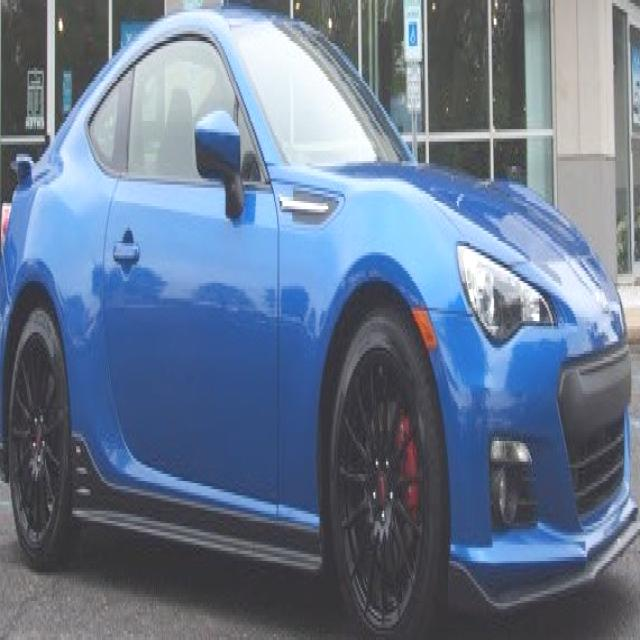blue: (0, 23, 634, 640)
